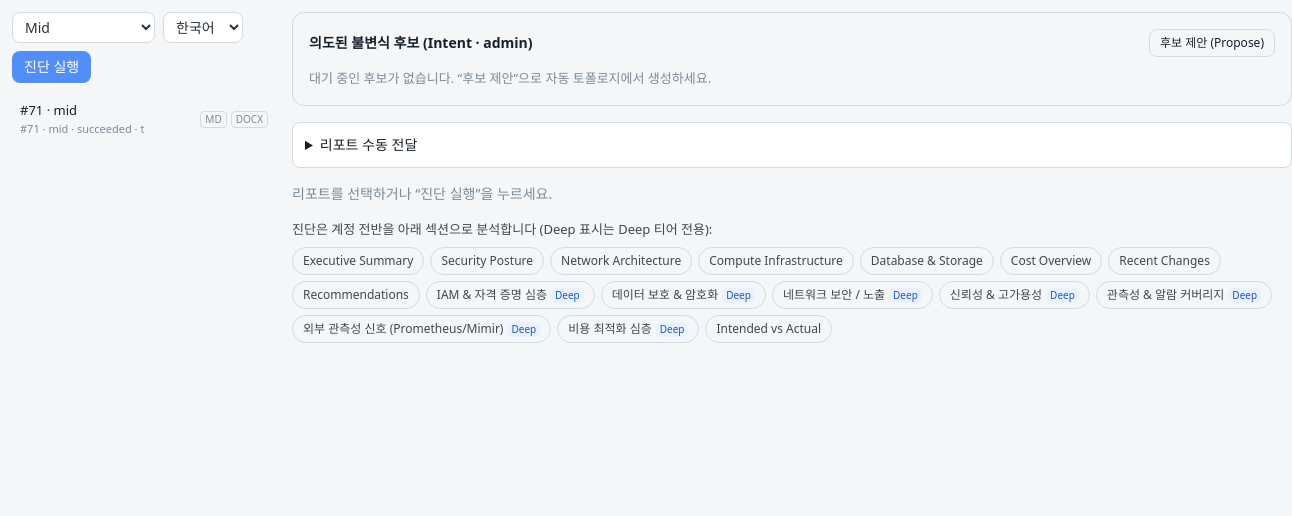
it: DiagnosisView — invariant assessment coverage › keeps an all-unassessed report visible with reasons instead of hiding zero drift
The image size is (1292, 516).
Step 1. Click the button "#71 · mid #71 · mid · succeeded · t" → point(104, 119), box [12, 95, 196, 143]
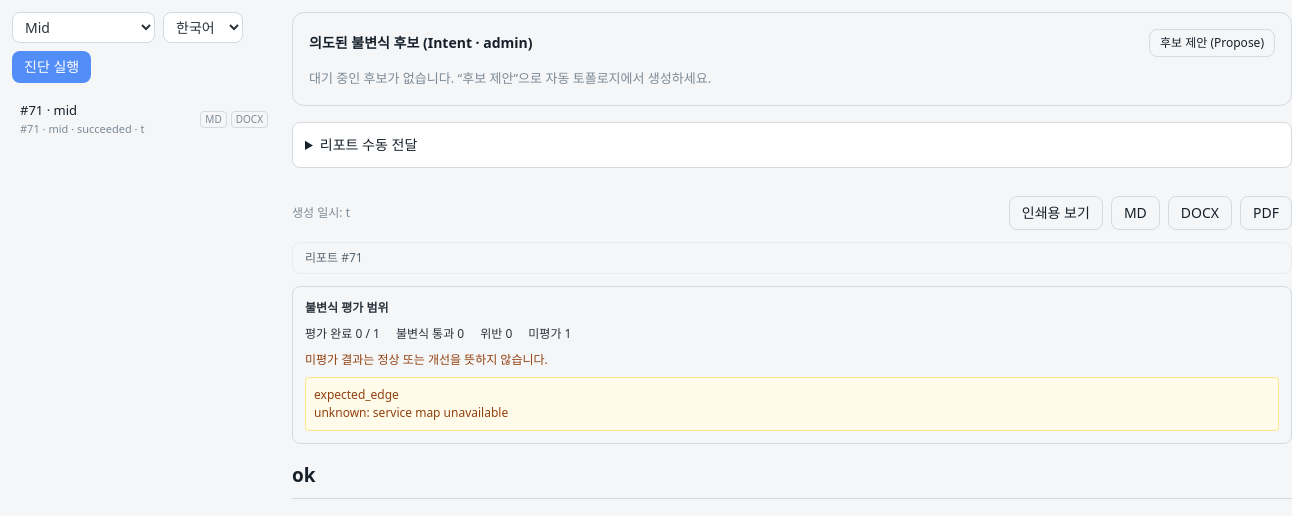
Expected: the text "평가 완료 0 / 1" is shown, [305, 324, 380, 342]
Expected: the text "미평가 1" is shown, [528, 324, 571, 342]
Expected: the text "unknown: service map unavailable" is shown, [314, 404, 508, 420]
